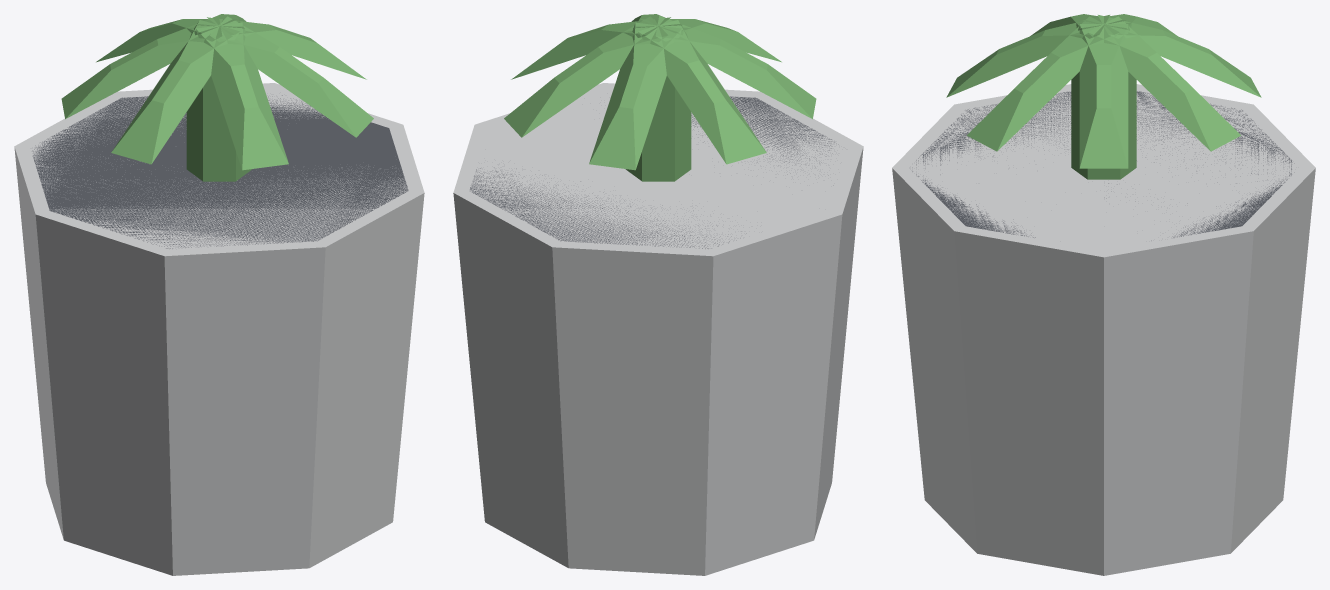
Rendered from SM_Plant_Pot.glb.
3 views of the same model, side by side, from view 1: azimuth 30°, elevation 25°; view 2: azimuth 150°, elevation 25°; view 3: azimuth 270°, elevation 25° (orthographic).
Visible parts, largest first — view 1: SM_Plant_Pot; view 2: SM_Plant_Pot; view 3: SM_Plant_Pot.
Boxes of the visible parts, x1,y1,x2,y2 form: SM_Plant_Pot: (14,14,424,575); SM_Plant_Pot: (453,14,863,575); SM_Plant_Pot: (892,14,1315,575).
Bounding box in the file's own units: 0.52 × 0.644 × 0.52.
